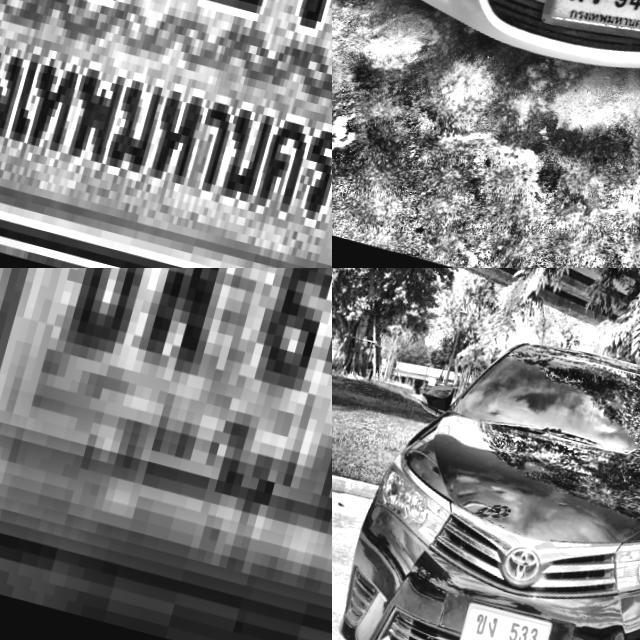license-plate: (0, 268, 332, 623), (0, 0, 332, 268), (539, 0, 640, 58), (454, 595, 559, 640)
